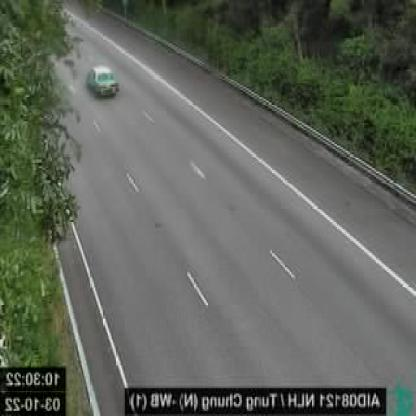Car: (87, 66, 122, 95)
